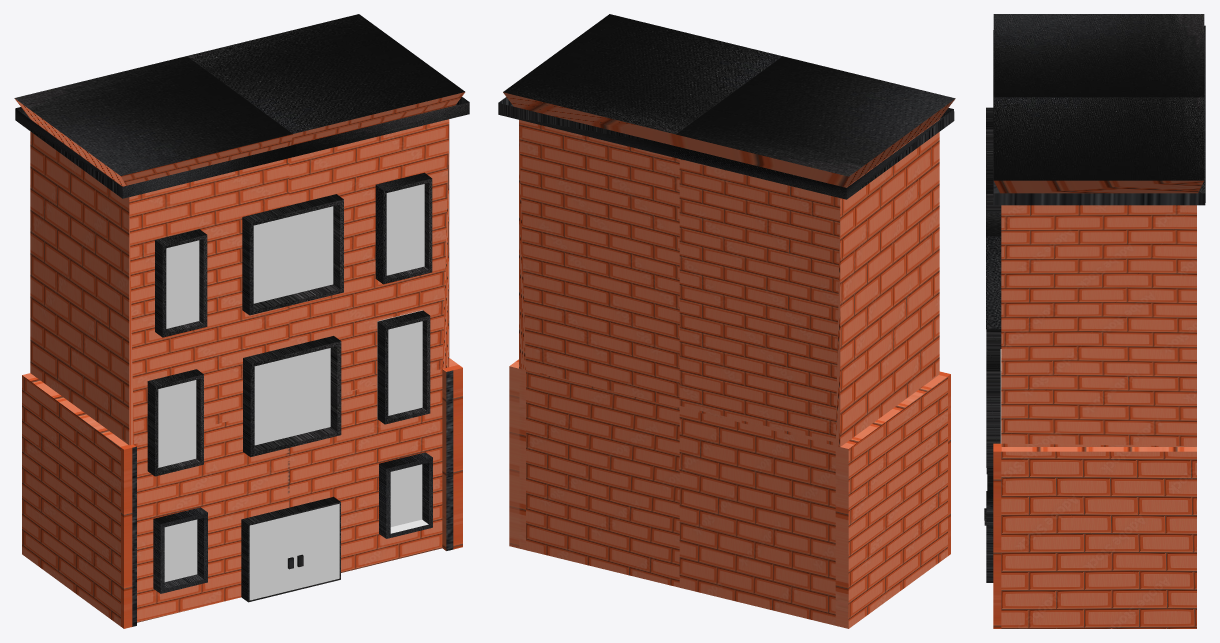
The model's file is building.glb.
3 views of the same model, side by side, from view 1: azimuth 30°, elevation 25°; view 2: azimuth 150°, elevation 25°; view 3: azimuth 270°, elevation 25° (orthographic).
Parts seen in each view (by area): view 1: Cube; view 2: Cube; view 3: Cube.
Boxes of the visible parts, bbox=[...] form: Cube: bbox=[14, 14, 469, 628]; Cube: bbox=[498, 14, 955, 628]; Cube: bbox=[984, 14, 1205, 628].
Size of the model in its own units: 7.77 by 9.67 by 4.32.
Materials: 3 (2 with a texture image).
